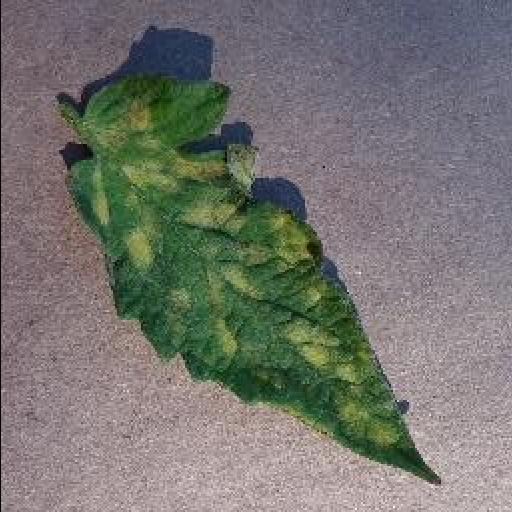disease_tomato: (68, 70, 438, 483)
